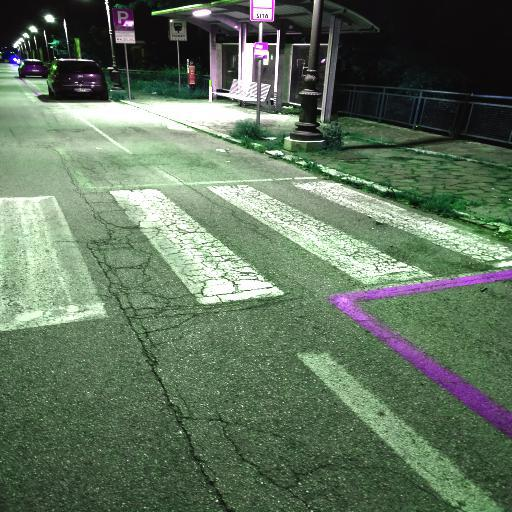crosswalk: (96, 166, 441, 322)
